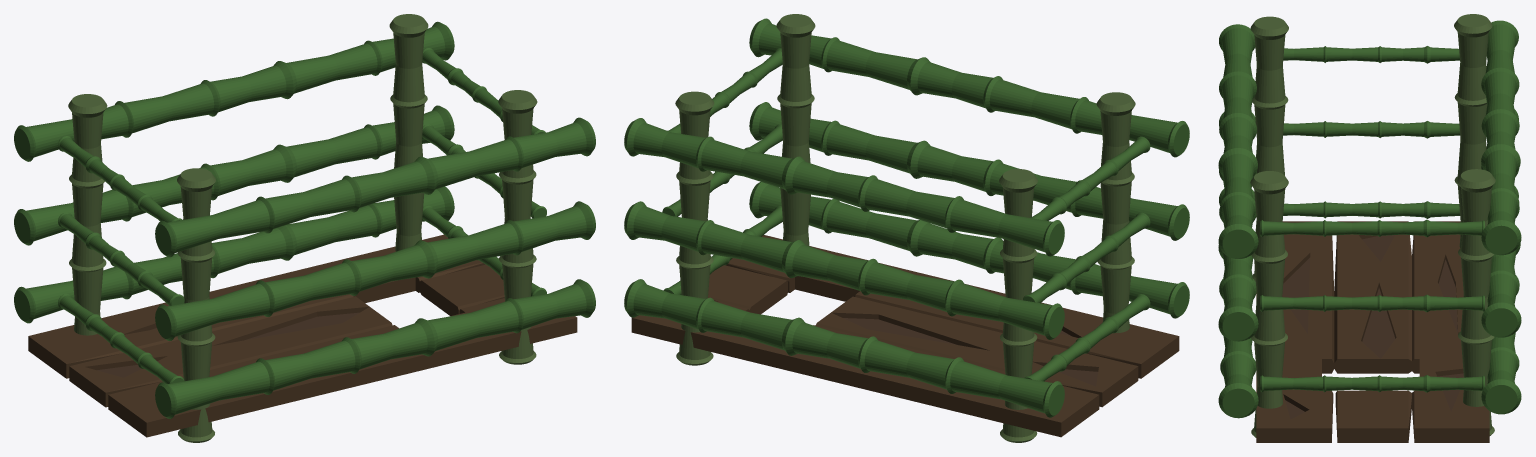
Rendered from echaffaudage qui soutien la racine 1.2.fbx.
3 views of the same model, side by side, from view 1: azimuth 30°, elevation 25°; view 2: azimuth 150°, elevation 25°; view 3: azimuth 270°, elevation 25° (orthographic).
Parts seen in each view (by area): view 1: Cube.002, Cylindre.015, Cylindre.029, Cylindre.016, Cylindre.014, Cylindre.017, Cylindre.028, bambou soutien 2.017, bambou soutien 2.018, bambou soutien 2.019, bambou soutien 2.020, Cylindre.031 (+5 smaller); view 2: Cube.002, Cylindre.028, Cylindre.014, Cylindre.017, Cylindre.015, Cylindre.016, Cylindre.029, bambou soutien 2.020, bambou soutien 2.019, bambou soutien 2.018, bambou soutien 2.017, Cylindre.031 (+5 smaller); view 3: Cube.002, Cylindre.015, Cylindre.014, bambou soutien 2.020, bambou soutien 2.017, bambou soutien 2.019, bambou soutien 2.018, Cylindre.034, Cylindre.035, Cylindre.033, Cylindre.016, Cylindre.029 (+5 smaller).
Part boxes in pixels (box(x1,y1,x2,y2)): Cube.002: box(28, 234, 577, 437); Cylindre.015: box(155, 117, 595, 257); Cylindre.029: box(155, 279, 595, 418); Cylindre.016: box(155, 201, 595, 340); Cylindre.014: box(14, 21, 454, 161); Cylindre.017: box(14, 105, 454, 245); Cylindre.028: box(14, 186, 454, 323); bambou soutien 2.017: box(389, 14, 428, 251); bambou soutien 2.018: box(68, 94, 107, 335); bambou soutien 2.019: box(177, 168, 215, 442); bambou soutien 2.020: box(498, 90, 537, 364); Cylindre.031: box(58, 212, 184, 305); Cube.002: box(631, 235, 1179, 437); Cylindre.028: box(624, 279, 1064, 417); Cylindre.014: box(624, 118, 1064, 256); Cylindre.017: box(624, 201, 1064, 339); Cylindre.015: box(749, 18, 1189, 157); Cylindre.016: box(749, 102, 1189, 240); Cylindre.029: box(749, 182, 1189, 318); bambou soutien 2.020: box(776, 14, 815, 246); bambou soutien 2.019: box(1096, 92, 1135, 332); bambou soutien 2.018: box(999, 169, 1037, 442); bambou soutien 2.017: box(675, 91, 714, 365); Cylindre.031: box(1023, 212, 1150, 303); Cube.002: box(1256, 221, 1489, 442); Cylindre.015: box(1218, 24, 1258, 258); Cylindre.014: box(1481, 20, 1521, 255); bambou soutien 2.020: box(1250, 171, 1288, 437); bambou soutien 2.017: box(1457, 169, 1495, 435); bambou soutien 2.019: box(1250, 16, 1288, 282); bambou soutien 2.018: box(1454, 14, 1492, 247); Cylindre.034: box(1260, 294, 1484, 312); Cylindre.035: box(1260, 219, 1484, 237); Cylindre.033: box(1260, 375, 1484, 392); Cylindre.016: box(1218, 112, 1258, 341); Cylindre.029: box(1218, 189, 1258, 418).
Bounding box in the file's own units: 1324 × 764 × 816.
